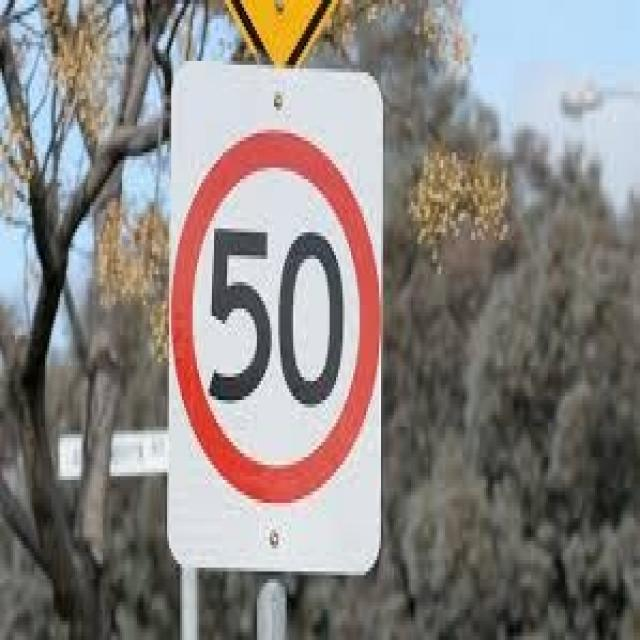speed_limit_50: (171, 122, 385, 504)
